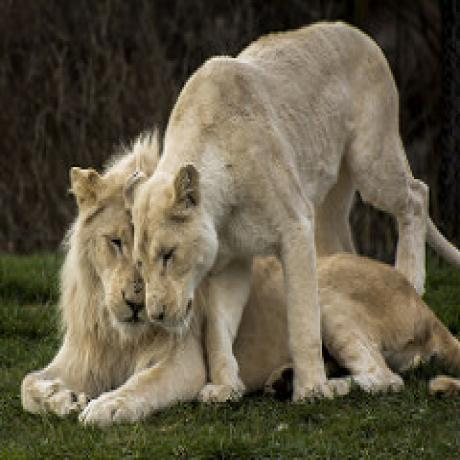Lion: (134, 15, 437, 403), (19, 131, 139, 422)
